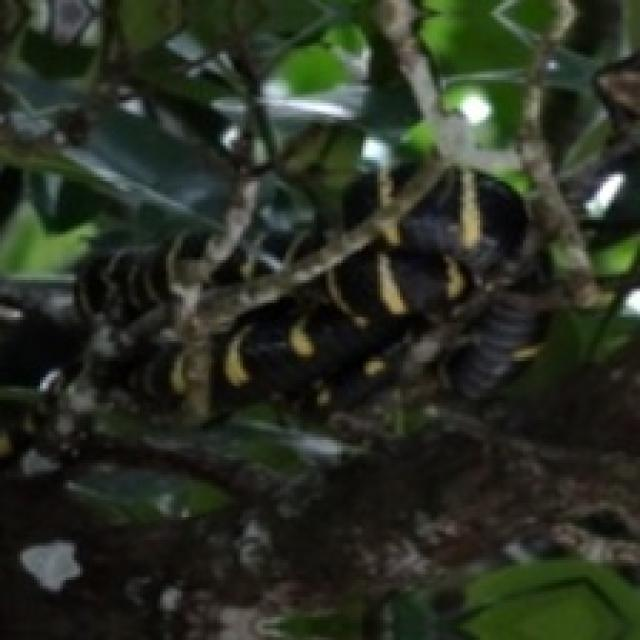mangrove cat snake: (51, 157, 560, 434)
